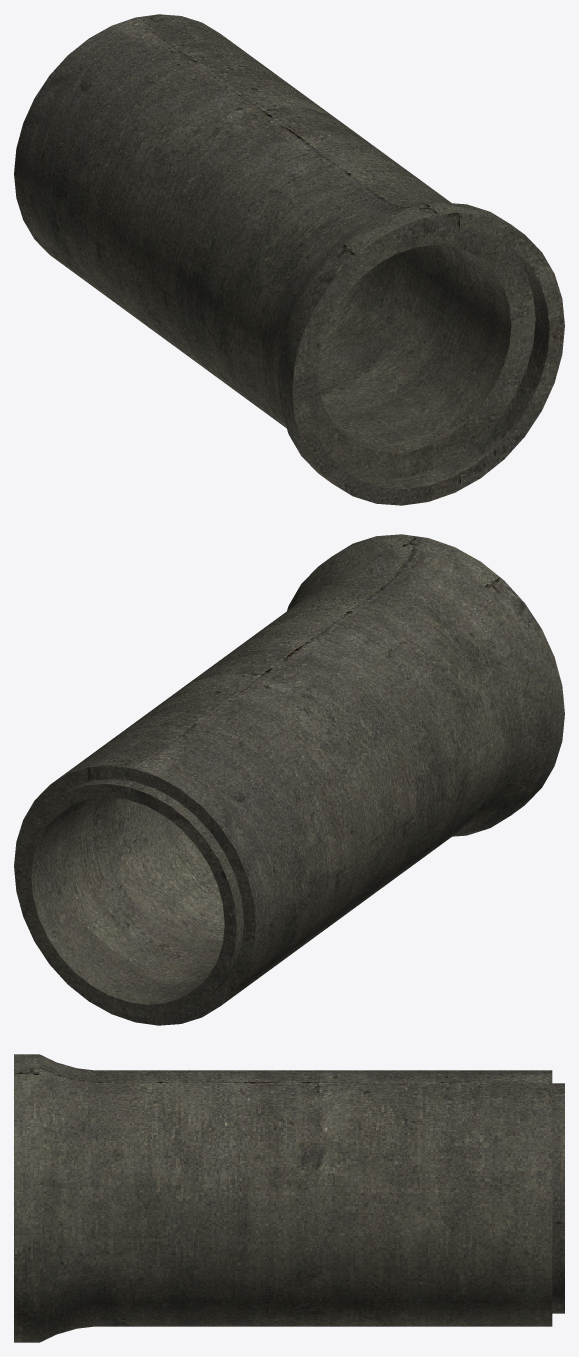
File: concrete_pipe_hm_1_end.glb
3 renders of one model, top to bottom at view 1: azimuth 30°, elevation 25°; view 2: azimuth 150°, elevation 25°; view 3: azimuth 270°, elevation 25°, orthographic. The views are drawn at different scales.
Visible parts, largest first — view 1: concrete_pipe_hm_1_end; view 2: concrete_pipe_hm_1_end; view 3: concrete_pipe_hm_1_end.
Boxes of the visible parts, x1=… form: concrete_pipe_hm_1_end: x1=14, y1=14, x2=564, y2=505; concrete_pipe_hm_1_end: x1=14, y1=534, x2=564, y2=1025; concrete_pipe_hm_1_end: x1=14, y1=1054, x2=564, y2=1342.
Bounding box in the file's own units: 2.25 × 2.25 × 4.3.
1 material, 1 textured.
